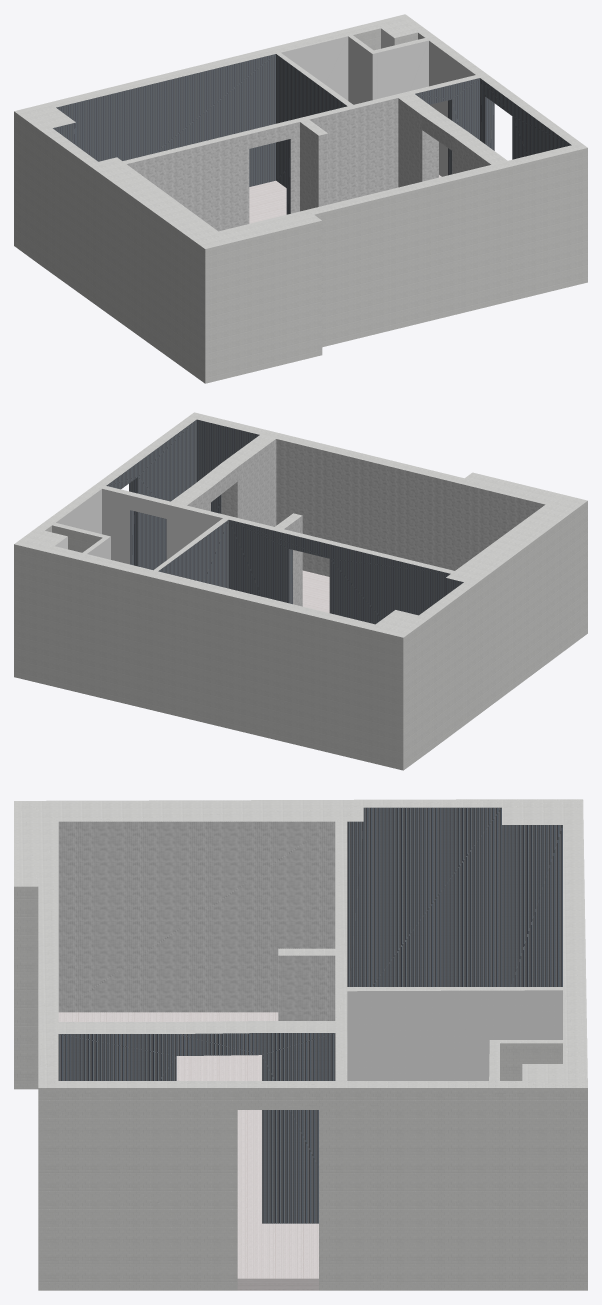
Rendered from помещение.fbx.
3 views of the same model, one above another, from view 1: azimuth 30°, elevation 25°; view 2: azimuth 150°, elevation 25°; view 3: azimuth 270°, elevation 25° (orthographic). The views are drawn at different scales.
Visible parts, largest first — view 1: MeshChunk (×5); view 2: MeshChunk (×5); view 3: MeshChunk (×5).
Boxes of the visible parts, x1,y1,x2,y2 form: MeshChunk (×5): [14, 14, 587, 383]; MeshChunk (×5): [14, 412, 587, 770]; MeshChunk (×5): [14, 799, 587, 1290].
Size of the model in its own units: 168 by 141 by 55.
Materials: 6 (5 with a texture image).
